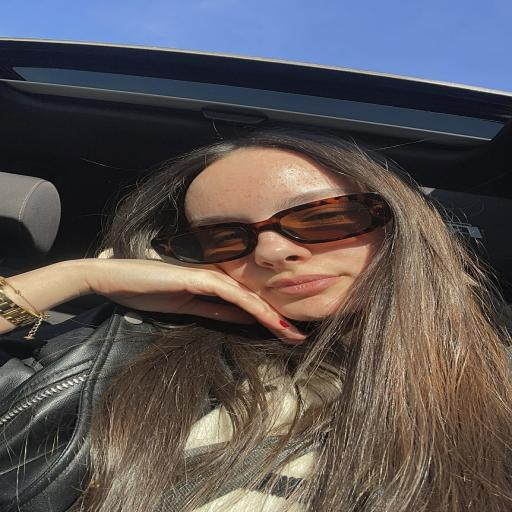marija: (176, 148, 410, 324)
